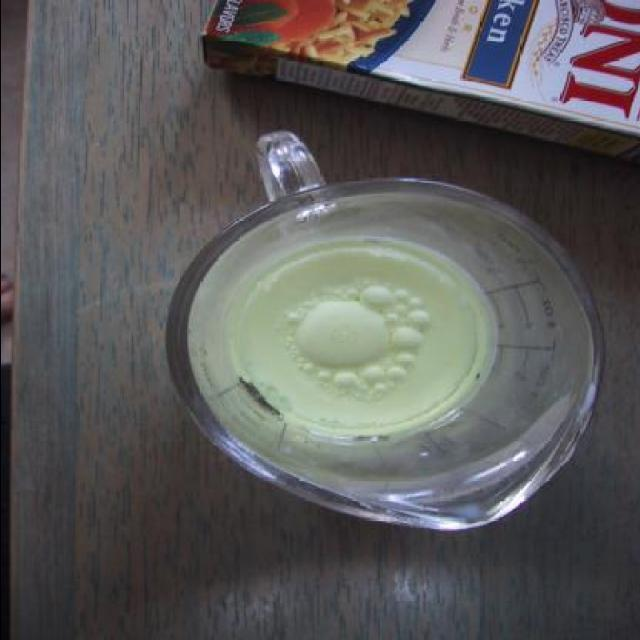Milk: (188, 186, 536, 464)
